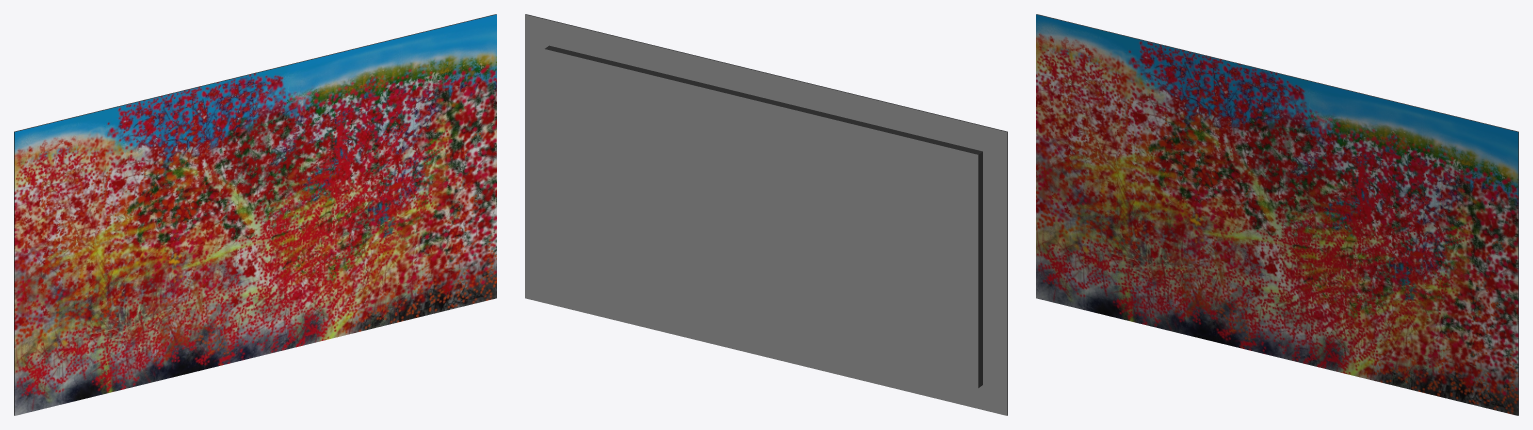
The model's file is hz028_grand_dibond.glb.
3 views of the same model, side by side, from view 1: azimuth 30°, elevation 25°; view 2: azimuth 150°, elevation 25°; view 3: azimuth 330°, elevation 25° (orthographic).
Visible parts, largest first — view 1: hz028_grand_dibond; view 2: hz028_grand_dibond; view 3: hz028_grand_dibond.
Part boxes in pixels (left/top/right/bottom): hz028_grand_dibond: left=14, top=14, right=496, bottom=415; hz028_grand_dibond: left=525, top=14, right=1007, bottom=415; hz028_grand_dibond: left=1036, top=14, right=1518, bottom=415.
Bounding box in the file's own units: 1.2 × 0.675 × 0.023.
4 materials, 1 textured.
